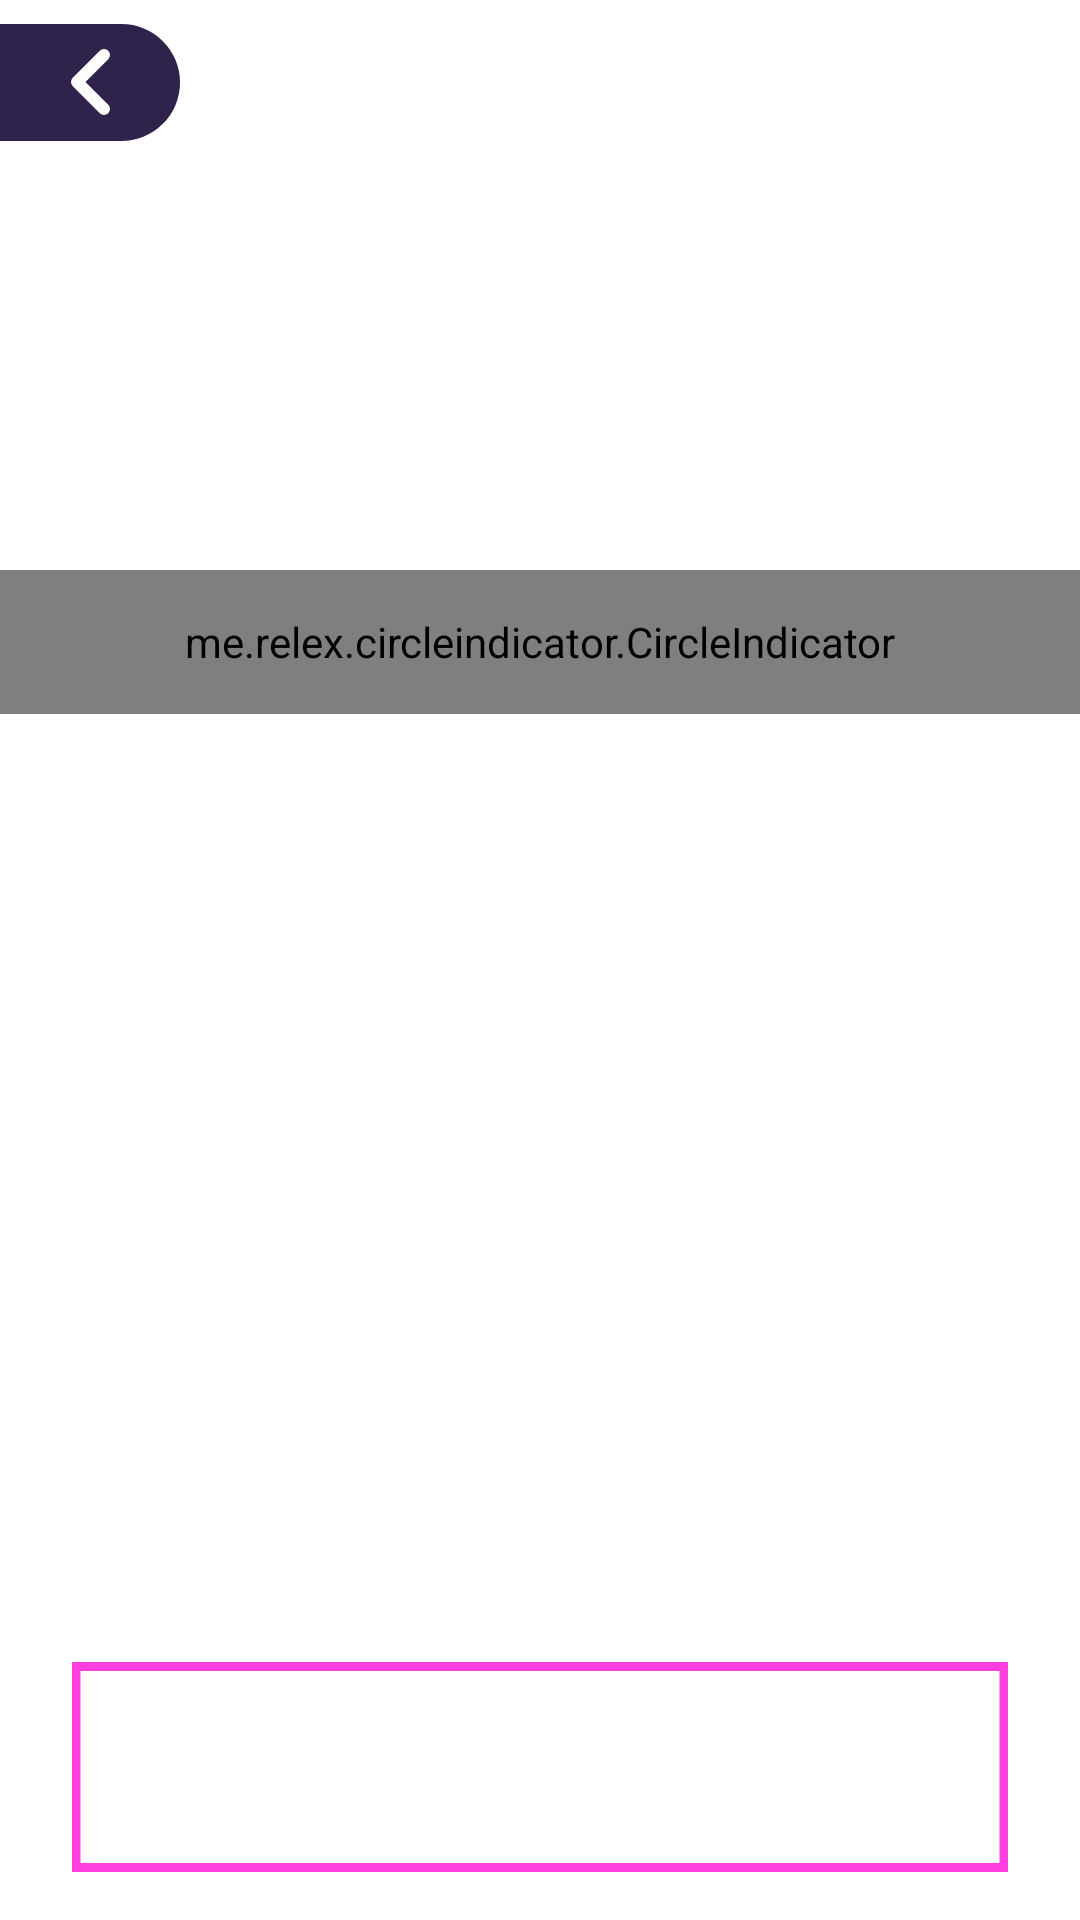

Point at icon controls on the screen. Image size 1080px×1920px, points as point (x, y).
back: point (90, 82)
